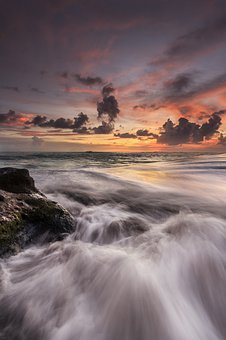sea: (12, 153, 226, 333)
sky: (2, 4, 225, 154)
